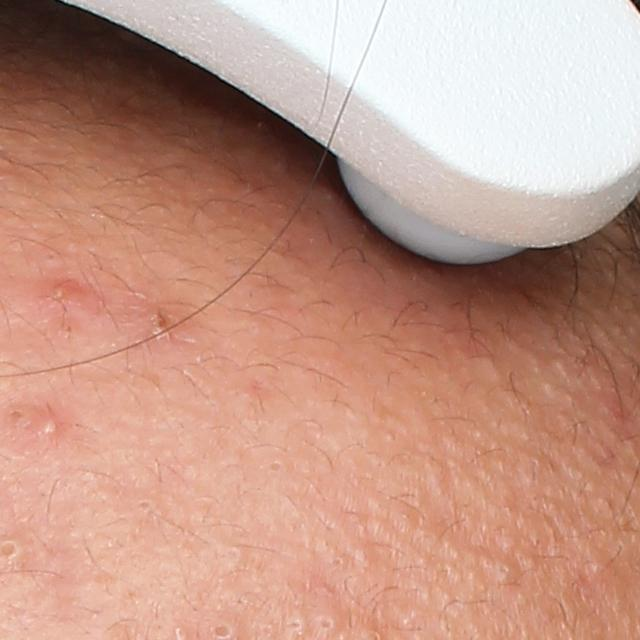comedo: (311, 611, 341, 636), (494, 558, 517, 582)
papule: (42, 280, 99, 317)
